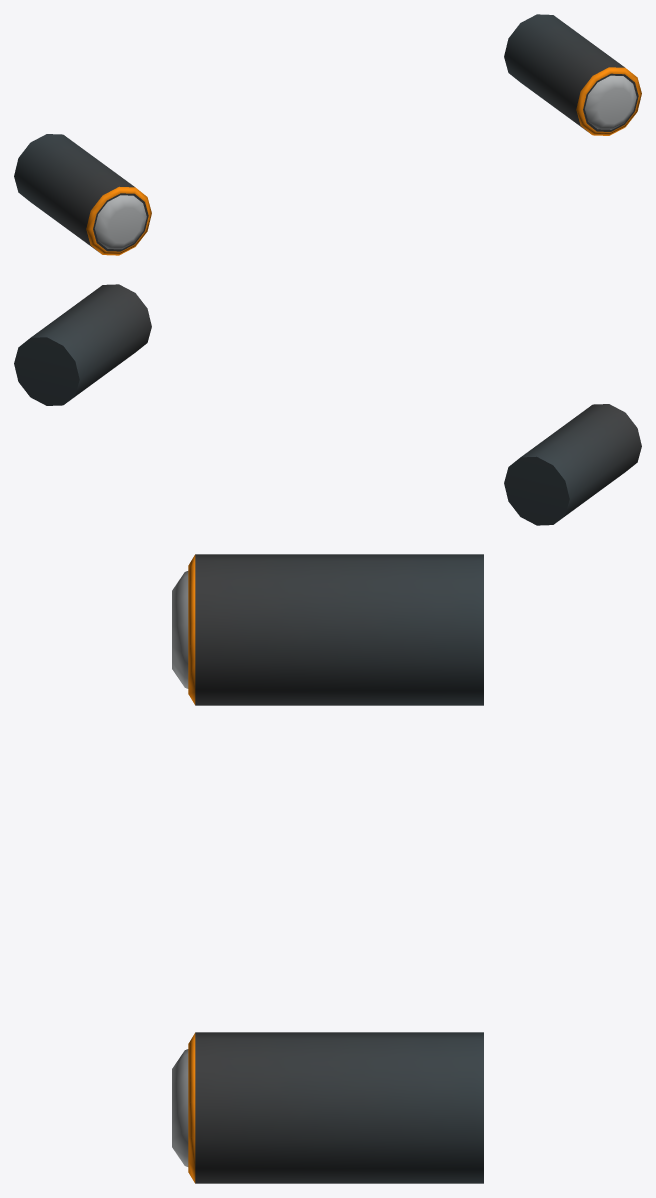
The model's file is Car_06_Headlight_Cool.fbx.
3 renders of one model, top to bottom at view 1: azimuth 30°, elevation 25°; view 2: azimuth 150°, elevation 25°; view 3: azimuth 270°, elevation 25°, orthographic. The views are drawn at different scales.
Visible parts, largest first — view 1: Car_06_Headlight_Cool; view 2: Car_06_Headlight_Cool; view 3: Car_06_Headlight_Cool.
Boxes of the visible parts, x1,y1,x2,y2 form: Car_06_Headlight_Cool: [14, 14, 641, 255]; Car_06_Headlight_Cool: [14, 284, 641, 525]; Car_06_Headlight_Cool: [172, 554, 483, 1183].
Size of the model in its own units: 250 by 60.74 by 29.53.
